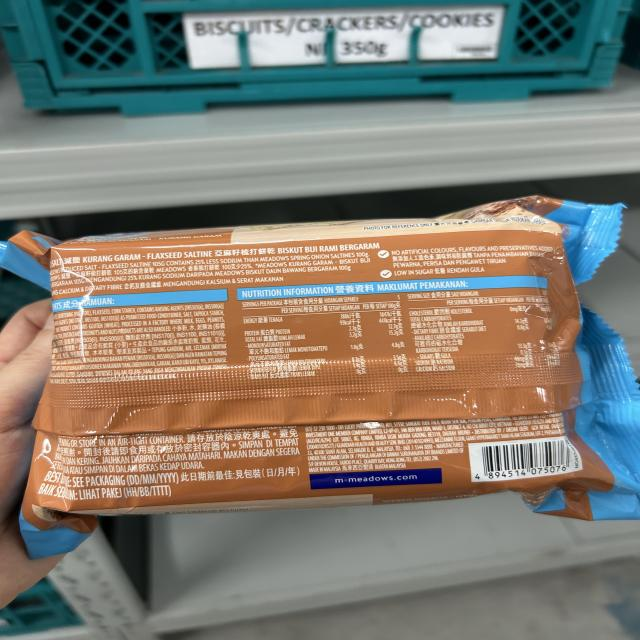object_name: (50, 241, 600, 491)
